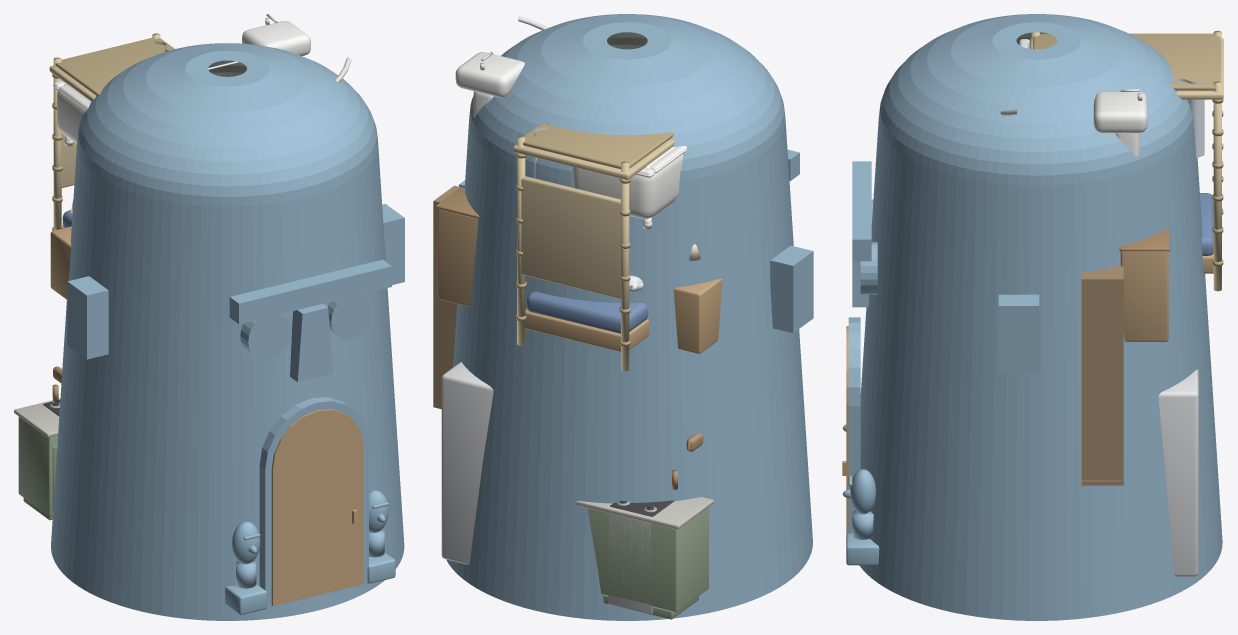
Rendered from squidward-house-web.glb.
3 views of the same model, side by side, from view 1: azimuth 30°, elevation 25°; view 2: azimuth 150°, elevation 25°; view 3: azimuth 270°, elevation 25° (orthographic). The views are drawn at different scales.
Parts seen in each view (by area): view 1: shell_cutaway_cover, shell_main, door_panel, shell_eyebrow, door_frame, shell_ear_L, shell_nose, bedroom_bed_bed.029, kitchen_cabinets_cabinets.001, shell_porthole_L, shell_porthole_R, bath_washbasin_washbasin.001 (+11 smaller); view 2: shell_main, bedroom_bed_bed.030, kitchen_cabinets_cabinets.001, kitchen_fridge_fridge, shell_cutaway_cover, bedroom_bed_bed.029, bedroom_dresser_dresser, shell_ear_L, bath_bathtub_bathtub, bedroom_nightstand-L_nightstand, bedroom_bed_bed.032, living_bookshelf_squid_bookshelf.004 (+9 smaller); view 3: shell_main, living_bookshelf_squid_bookshelf.001, kitchen_fridge_fridge, bedroom_dresser_dresser, bedroom_bed_bed.029, shell_ear_R, shell_cutaway_cover, door_frame, bath_washbasin_washbasin.001, shell_eyebrow, bedroom_bed_bed.021, kitchen_statue-R_entrance-statue.002 (+11 smaller).
Boxes of the visible parts, bbox=[...] form: shell_cutaway_cover: bbox=[102, 74, 302, 620]; shell_main: bbox=[51, 43, 404, 613]; door_panel: bbox=[271, 409, 363, 605]; shell_eyebrow: bbox=[229, 259, 391, 324]; door_frame: bbox=[259, 397, 368, 608]; shell_ear_L: bbox=[67, 276, 108, 359]; shell_nose: bbox=[290, 304, 333, 382]; bedroom_bed_bed.029: bbox=[55, 37, 174, 95]; kitchen_cabinets_cabinets.001: bbox=[18, 417, 57, 516]; shell_porthole_L: bbox=[240, 314, 291, 359]; shell_porthole_R: bbox=[327, 293, 374, 339]; bath_washbasin_washbasin.001: bbox=[242, 21, 310, 56]; shell_main: bbox=[446, 14, 806, 620]; bedroom_bed_bed.030: bbox=[521, 176, 621, 298]; kitchen_cabinets_cabinets.001: bbox=[587, 507, 708, 611]; kitchen_fridge_fridge: bbox=[441, 362, 493, 564]; shell_cutaway_cover: bbox=[639, 21, 812, 562]; bedroom_bed_bed.029: bbox=[523, 123, 674, 169]; bedroom_dresser_dresser: bbox=[437, 209, 478, 306]; shell_ear_L: bbox=[770, 245, 813, 332]; bath_bathtub_bathtub: bbox=[572, 147, 683, 218]; bedroom_nightstand-L_nightstand: bbox=[673, 279, 722, 353]; bedroom_bed_bed.032: bbox=[526, 291, 648, 333]; living_bookshelf_squid_bookshelf.004: bbox=[433, 200, 457, 409]; shell_main: bbox=[859, 14, 1222, 620]; living_bookshelf_squid_bookshelf.001: bbox=[1081, 277, 1123, 480]; kitchen_fridge_fridge: bbox=[1158, 369, 1198, 576]; bedroom_dresser_dresser: bbox=[1120, 251, 1168, 341]; bedroom_bed_bed.029: bbox=[1033, 33, 1220, 90]; shell_ear_R: bbox=[998, 294, 1039, 373]; shell_cutaway_cover: bbox=[881, 15, 1031, 101]; door_frame: bbox=[848, 317, 860, 533]; bath_washbasin_washbasin.001: bbox=[1093, 91, 1147, 133]; shell_eyebrow: bbox=[852, 161, 871, 261]; bedroom_bed_bed.021: bbox=[1213, 81, 1221, 291]; kitchen_statue-R_entrance-statue.002: bbox=[850, 469, 875, 514].
Size of the model in its own units: 3.22 by 4.62 by 3.18.
